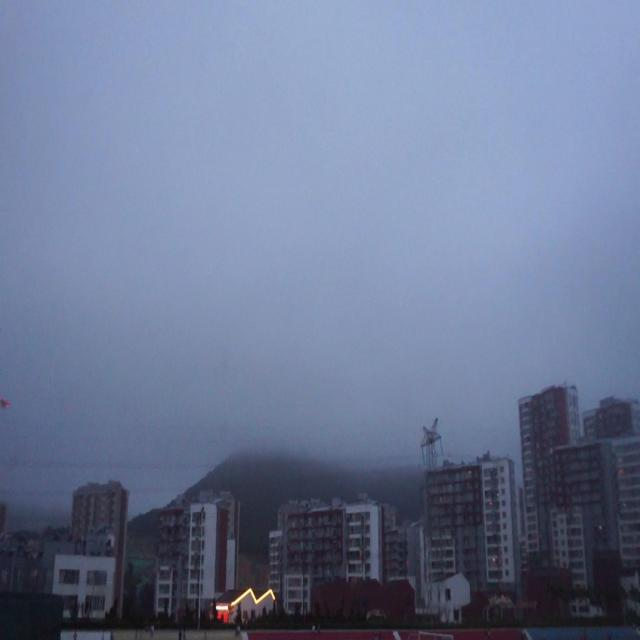drone: (1, 396, 12, 410)
